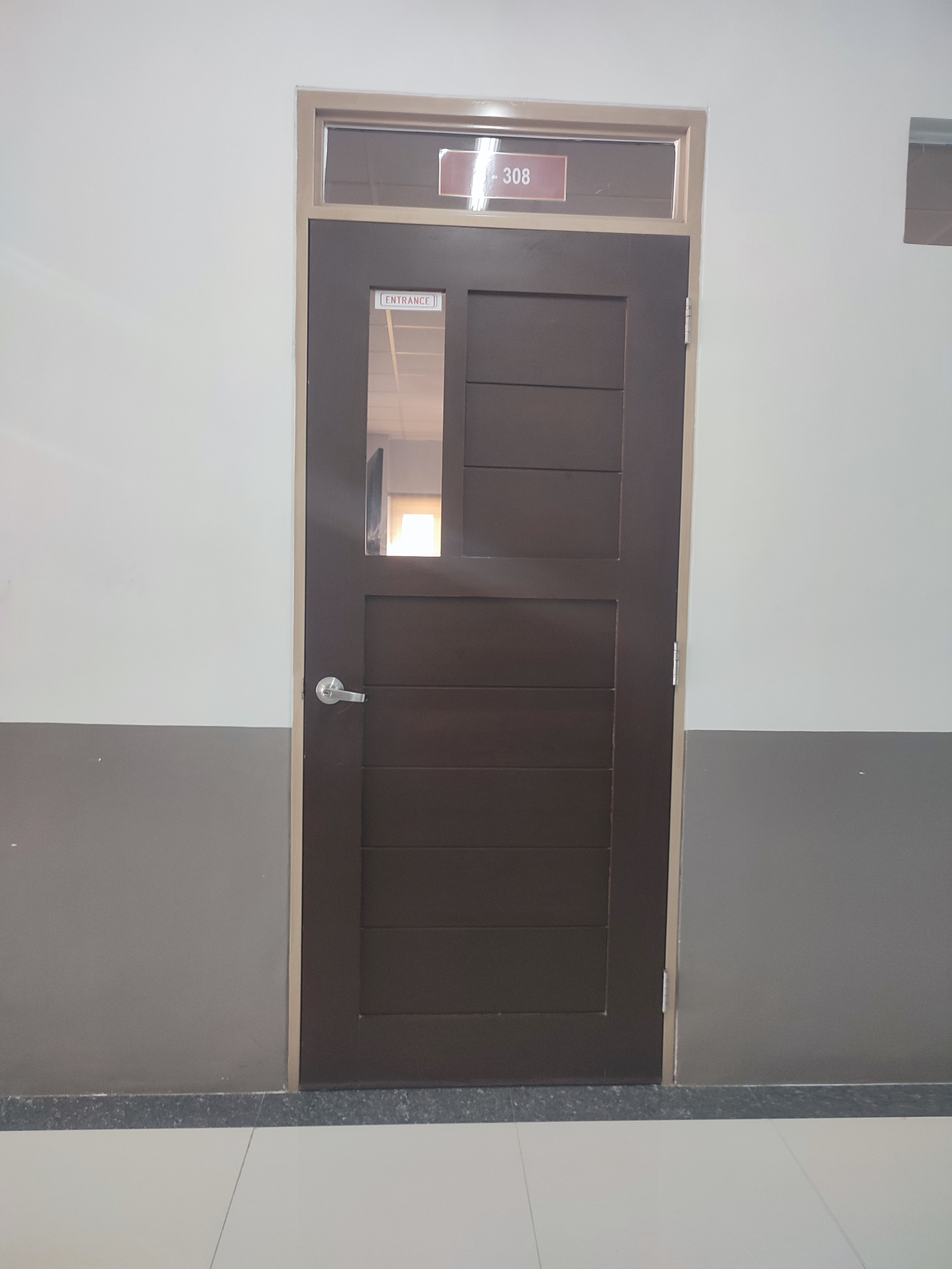door: (285, 93, 706, 1100)
